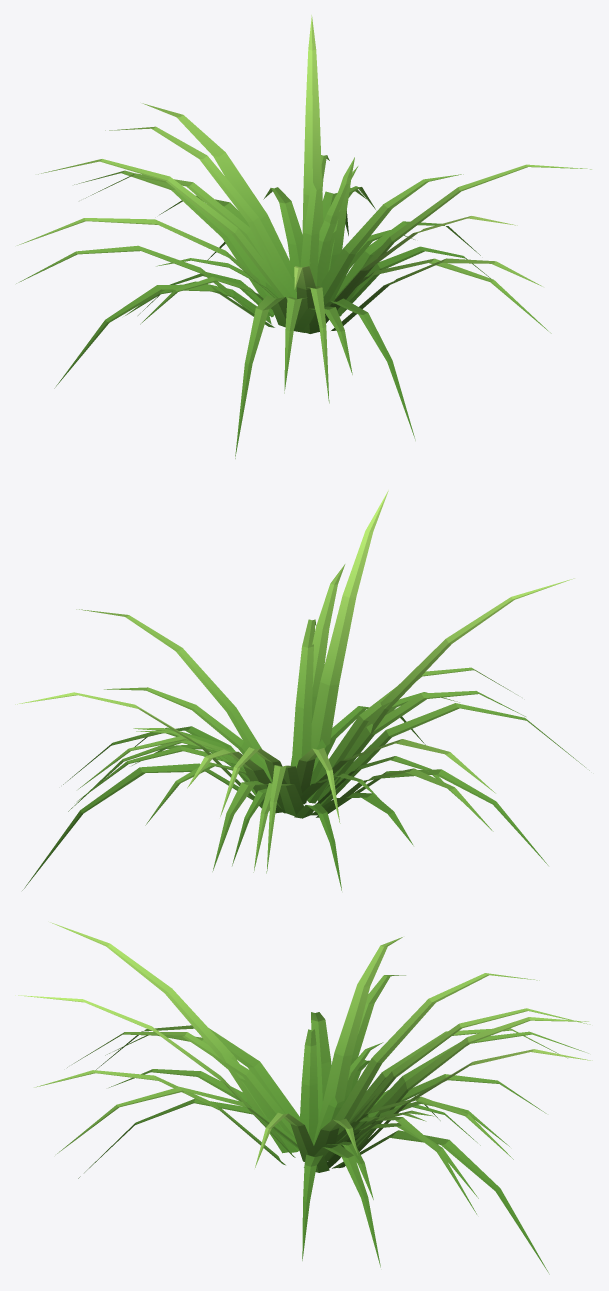
The model's file is Plant_GrassTuft.glb.
The picture shows the model from 3 angles, top to bottom: view 1: azimuth 30°, elevation 25°; view 2: azimuth 150°, elevation 25°; view 3: azimuth 270°, elevation 25°; orthographic projection.
Visible parts, largest first — view 1: Plant_GrassTuft; view 2: Plant_GrassTuft; view 3: Plant_GrassTuft.
Boxes of the visible parts, x1,y1,x2,y2 form: Plant_GrassTuft: (16,15,591,458); Plant_GrassTuft: (15,490,589,890); Plant_GrassTuft: (15,922,592,1274).
Size of the model in its own units: 1.68 by 0.7402 by 1.68.
